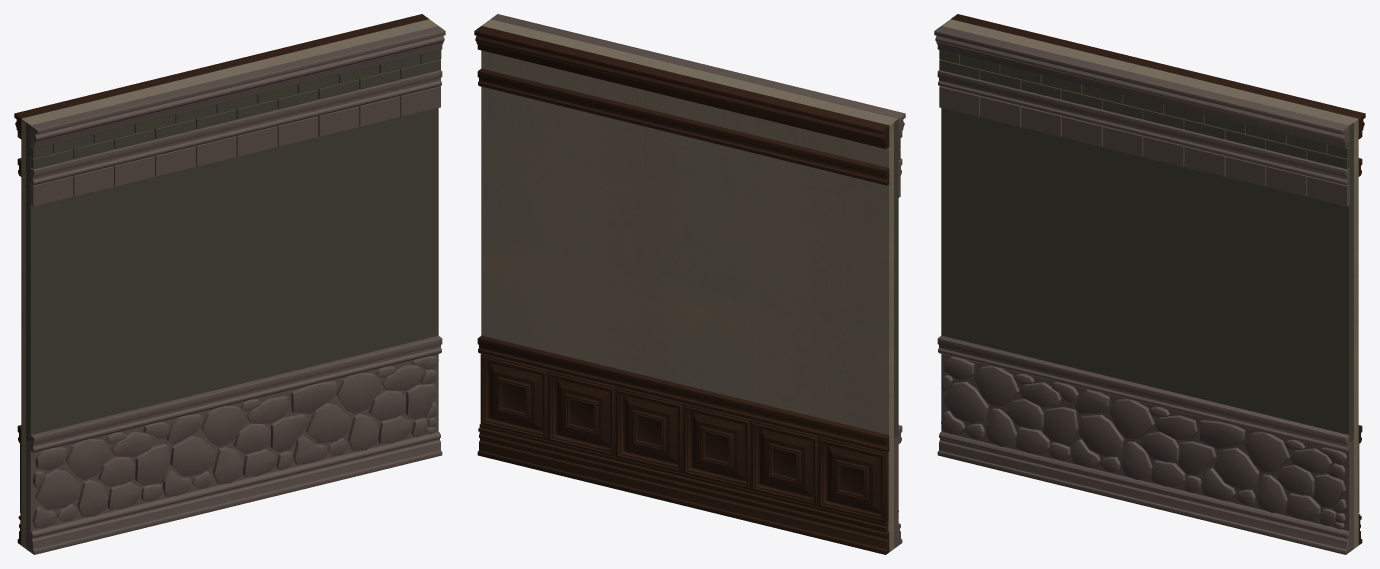
Rendered from SK5 WALL 2.fbx.
3 renders of one model, left to right at view 1: azimuth 30°, elevation 25°; view 2: azimuth 150°, elevation 25°; view 3: azimuth 330°, elevation 25°, orthographic.
Parts seen in each view (by area): view 1: SK5 WALL 2; view 2: SK5 WALL 2; view 3: SK5 WALL 2.
Boxes of the visible parts, bbox=[...] form: SK5 WALL 2: bbox=[14, 14, 445, 554]; SK5 WALL 2: bbox=[474, 14, 905, 554]; SK5 WALL 2: bbox=[934, 14, 1365, 554].
Bounding box in the file's own units: 400 × 400 × 39.93.
